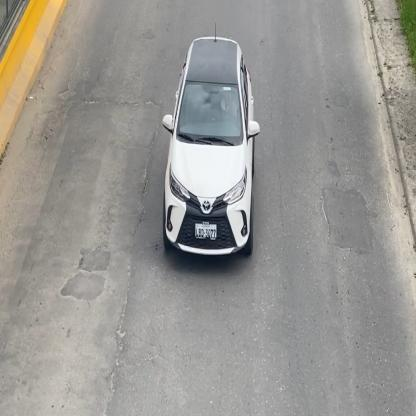Placa: (194, 222, 216, 240)
